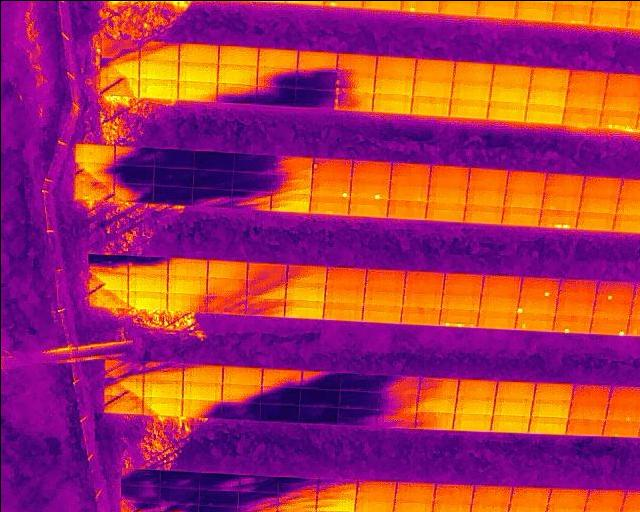Cell: (595, 281, 635, 302), (519, 277, 560, 297), (350, 179, 389, 199), (310, 177, 349, 197), (516, 297, 557, 315), (514, 314, 554, 332), (590, 318, 629, 335), (553, 316, 592, 333), (606, 403, 640, 420)
Cell-Multi: (599, 109, 637, 128), (438, 310, 478, 326)
No-Anomaly: (442, 273, 483, 295), (355, 481, 394, 504), (403, 270, 442, 293), (364, 268, 403, 291), (480, 276, 522, 297), (394, 482, 434, 504), (566, 70, 606, 92), (434, 483, 472, 506), (556, 279, 597, 300), (176, 80, 215, 102), (137, 77, 176, 99), (452, 61, 491, 83), (217, 63, 257, 84), (138, 59, 178, 80), (217, 45, 257, 66), (296, 49, 337, 69), (510, 486, 549, 507), (471, 485, 510, 506), (429, 164, 468, 185), (529, 68, 568, 89), (491, 64, 530, 85), (178, 61, 217, 82), (182, 362, 222, 382), (166, 274, 206, 294), (166, 257, 206, 277), (270, 192, 310, 212), (257, 47, 297, 67), (585, 491, 623, 512), (468, 165, 506, 186), (373, 92, 411, 113), (142, 397, 181, 417), (549, 488, 588, 508), (326, 266, 365, 286), (544, 172, 583, 192), (390, 162, 429, 182), (351, 159, 390, 179), (312, 156, 351, 176), (410, 95, 449, 115), (373, 74, 412, 94), (375, 54, 414, 74), (456, 378, 497, 397), (528, 86, 565, 107), (426, 201, 464, 221), (388, 198, 426, 218), (525, 102, 563, 122), (449, 97, 487, 117), (415, 59, 453, 79), (178, 43, 218, 62), (490, 413, 530, 432), (222, 364, 261, 383), (127, 290, 166, 309), (348, 199, 387, 218), (486, 100, 525, 119), (554, 3, 591, 23), (571, 383, 612, 401), (464, 204, 502, 223), (428, 183, 466, 202), (74, 143, 112, 162), (454, 395, 494, 413), (126, 273, 166, 291), (583, 174, 619, 194), (502, 206, 539, 225), (542, 191, 579, 210), (495, 381, 534, 399), (400, 306, 439, 324), (322, 302, 361, 320), (284, 300, 323, 318), (592, 299, 631, 317), (207, 259, 246, 277), (465, 186, 504, 204), (505, 170, 544, 188), (489, 85, 528, 103), (478, 0, 517, 18), (605, 73, 640, 93), (532, 382, 573, 399), (577, 211, 613, 230), (579, 194, 617, 212), (451, 81, 489, 99), (568, 402, 608, 419), (531, 399, 571, 416), (142, 380, 182, 397), (284, 282, 324, 299), (452, 413, 492, 430), (504, 188, 541, 206), (592, 8, 627, 27), (182, 381, 221, 398), (555, 299, 594, 316), (389, 182, 428, 199), (363, 289, 402, 306), (309, 197, 348, 214), (336, 53, 375, 70), (563, 92, 604, 108), (561, 108, 599, 125), (415, 412, 453, 429), (492, 399, 532, 415), (527, 417, 567, 433), (518, 1, 553, 19), (478, 296, 515, 313), (603, 93, 640, 110), (477, 313, 516, 329), (362, 306, 401, 322), (401, 291, 440, 307), (324, 286, 363, 302), (566, 418, 605, 434), (412, 78, 450, 94), (416, 396, 456, 411), (440, 295, 480, 310), (603, 420, 640, 435), (610, 385, 640, 403)
Shadowing: (271, 153, 312, 176), (270, 172, 311, 194), (103, 358, 143, 380), (285, 263, 325, 285), (231, 188, 271, 210), (417, 376, 458, 397), (215, 82, 256, 103), (315, 479, 355, 500), (73, 180, 113, 201), (192, 168, 232, 189), (191, 188, 231, 208), (232, 154, 272, 174), (334, 71, 374, 91), (98, 57, 138, 77), (246, 262, 285, 282), (276, 477, 315, 497), (153, 184, 192, 204), (153, 147, 192, 167), (334, 90, 373, 110), (294, 88, 333, 108), (98, 76, 137, 96), (296, 68, 335, 88), (255, 67, 294, 87), (85, 288, 126, 307), (192, 151, 233, 170), (113, 146, 154, 165), (166, 292, 206, 311), (205, 277, 245, 296), (126, 254, 166, 273), (237, 474, 277, 493), (113, 183, 153, 202), (232, 172, 272, 191), (256, 86, 294, 106), (85, 270, 127, 288), (153, 166, 192, 185), (339, 372, 380, 390), (86, 254, 127, 272), (158, 470, 199, 488), (112, 165, 153, 183), (207, 295, 245, 314), (199, 471, 237, 490), (100, 39, 138, 58), (181, 398, 221, 416), (237, 492, 277, 510), (261, 367, 301, 385), (120, 467, 160, 485), (221, 400, 260, 418), (378, 392, 417, 410), (261, 385, 300, 403), (221, 383, 260, 401), (198, 490, 237, 508), (245, 297, 284, 315), (260, 404, 299, 422), (74, 162, 113, 180), (139, 42, 178, 60), (299, 405, 338, 423), (377, 375, 418, 392), (120, 486, 158, 504), (246, 280, 284, 298), (102, 397, 142, 414), (299, 387, 339, 404), (102, 380, 142, 397), (301, 370, 341, 387), (158, 488, 198, 505), (339, 390, 378, 407), (143, 363, 182, 380), (338, 407, 377, 424), (377, 410, 415, 427)
Unclassified: (539, 208, 577, 228)
